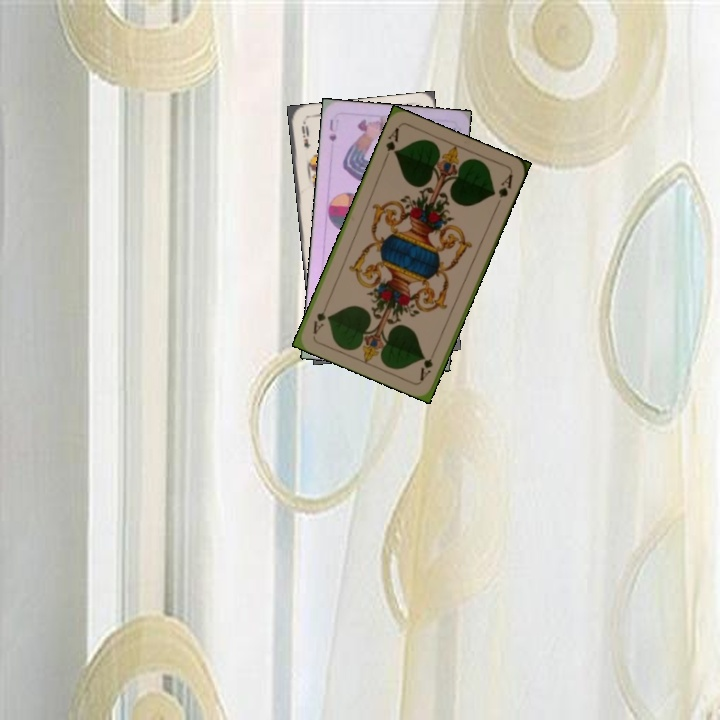E9: (298, 119, 313, 151)
GA: (416, 344, 439, 383), (380, 123, 402, 162)
SU: (325, 115, 342, 144)
